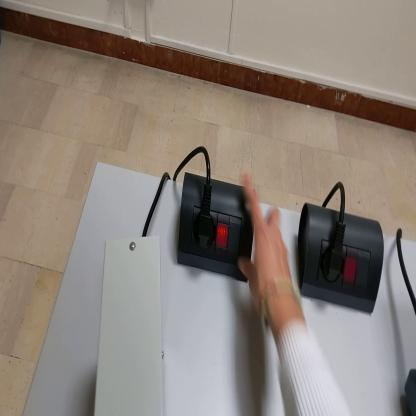hand: (237, 175, 297, 323)
power supply: (93, 241, 165, 415)
socket: (298, 202, 386, 316), (177, 174, 257, 285)
